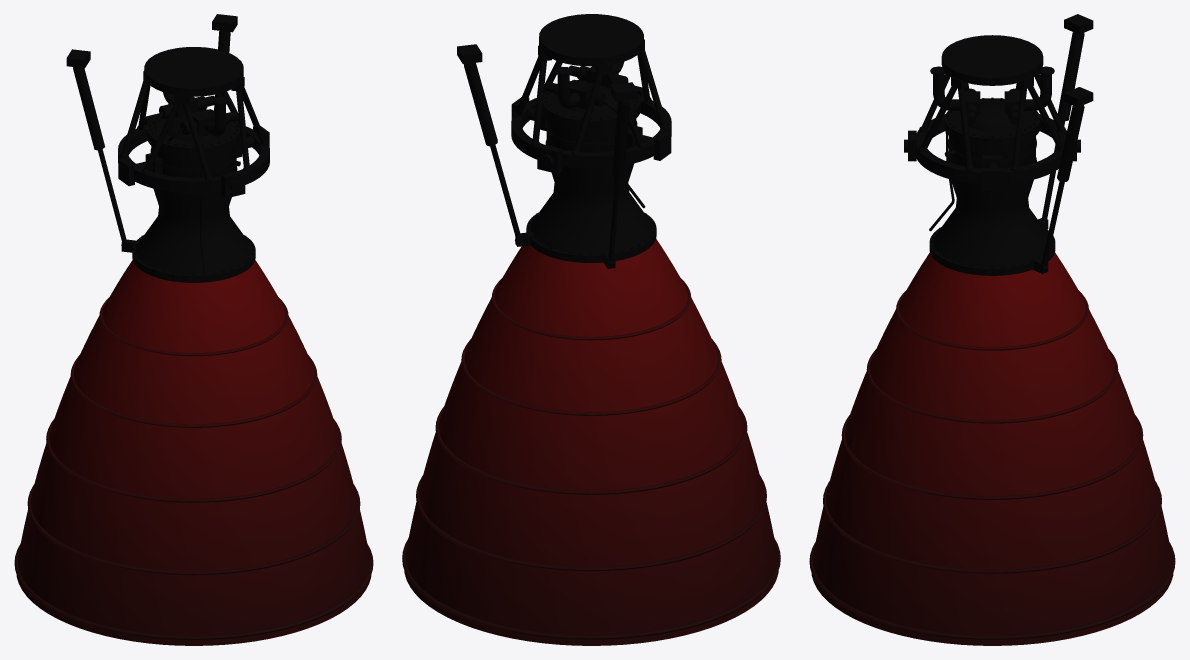
The model's file is eng_hypergolic_storable.fbx.
The picture shows the model from 3 angles, left to right: view 1: azimuth 30°, elevation 25°; view 2: azimuth 150°, elevation 25°; view 3: azimuth 270°, elevation 25°; orthographic projection. The views are drawn at different scales.
Parts seen in each view (by area): view 1: eng_hypergolic_storable_LOD0; view 2: eng_hypergolic_storable_LOD0; view 3: eng_hypergolic_storable_LOD0.
Boxes of the visible parts, x1,y1,x2,y2 form: eng_hypergolic_storable_LOD0: (14, 14, 373, 645); eng_hypergolic_storable_LOD0: (402, 14, 780, 645); eng_hypergolic_storable_LOD0: (809, 14, 1175, 645).
Size of what is drawn, in the model's own units: 2.52 by 3.9 by 2.52.
